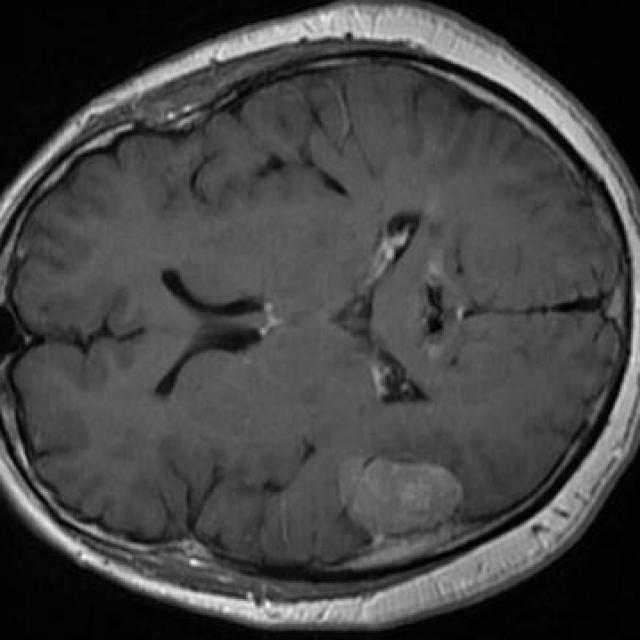meningioma: (341, 456, 464, 535)
